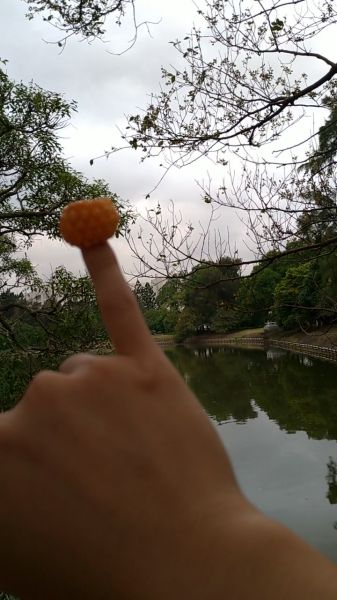eggs: (59, 198, 120, 248)
